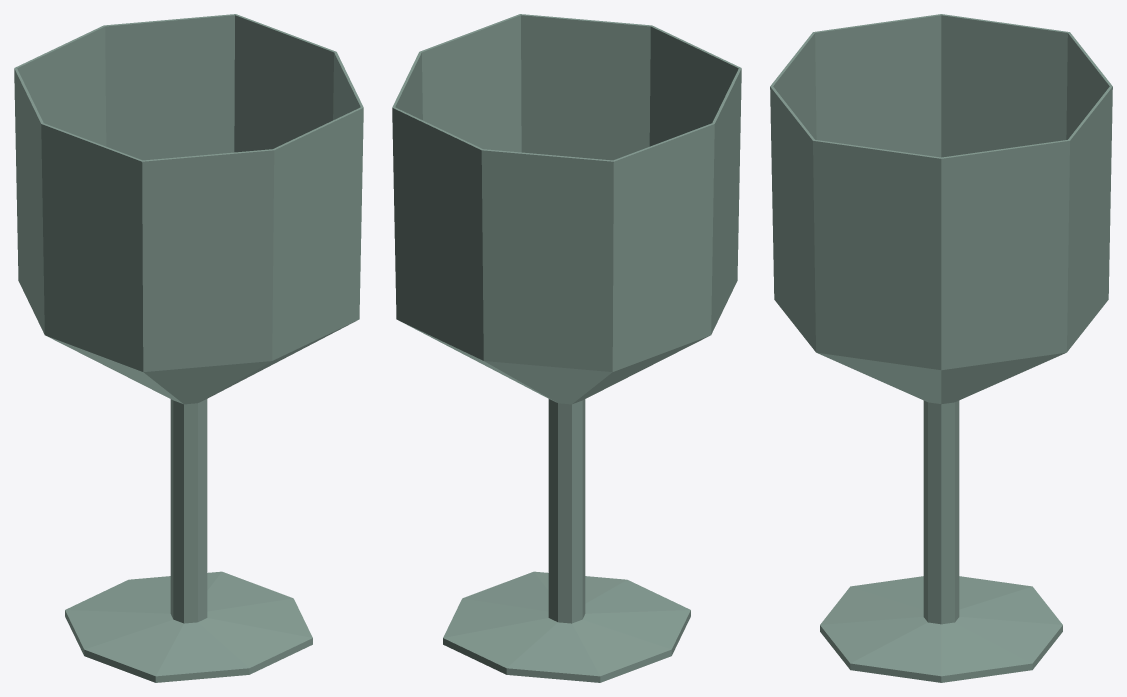
The model's file is Glass.fbx.
The picture shows the model from 3 angles, left to right: view 1: azimuth 30°, elevation 25°; view 2: azimuth 150°, elevation 25°; view 3: azimuth 270°, elevation 25°; orthographic projection.
Visible parts, largest first — view 1: Cube; view 2: Cube; view 3: Cube.
Part boxes in pixels (x1,y1,x2,y2): Cube: (14,14,363,682); Cube: (392,14,741,682); Cube: (770,14,1112,682).
Bounding box in the file's own units: 338 × 594 × 338.
